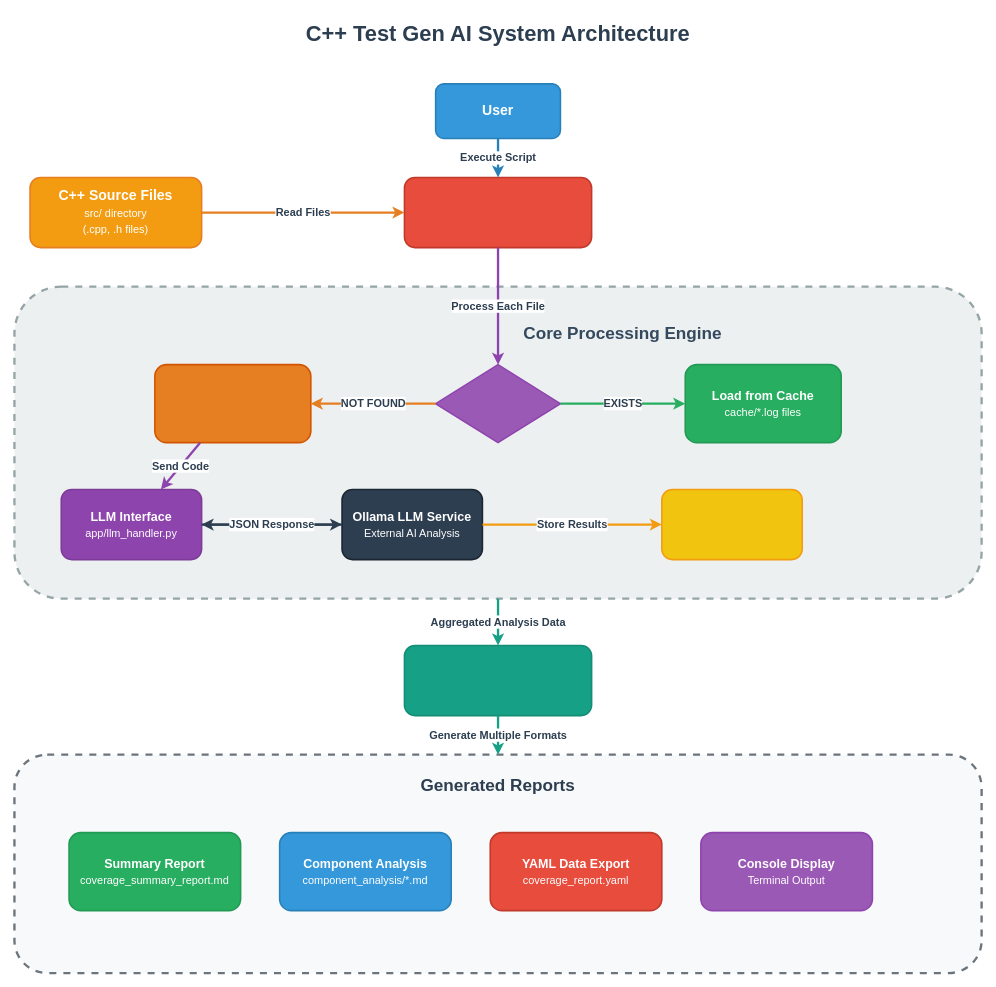
Image size: 996x987. Some labels were removed from this diagram. Here are the shapes that lost their labels. From the top down, the centre of each, then its label:
At point (497, 212): "Main Orchestrator app/main.py".
At point (232, 403): "Process with LLM New analysis required".
At point (497, 403): "Cache Check Analysis exists?".
At point (732, 524): "Update Cache Save analysis results".
At point (497, 680): "Report Generator app/report_generator.py".
